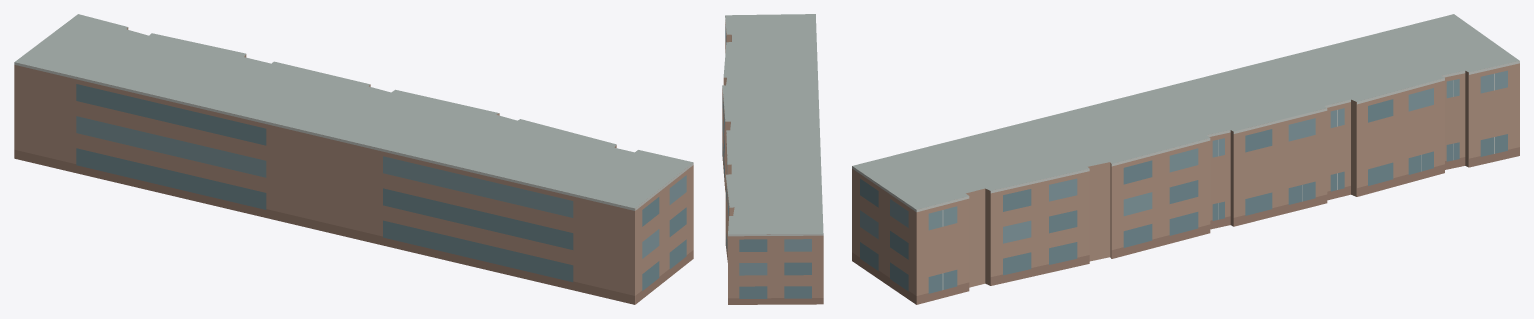
Rendered from survey-upis-32972587.glb.
3 views of the same model, side by side, from view 1: azimuth 30°, elevation 25°; view 2: azimuth 150°, elevation 25°; view 3: azimuth 270°, elevation 25° (orthographic). The views are drawn at different scales.
Parts seen in each view (by area): view 1: survey-upis-32972587.tmp; view 2: survey-upis-32972587.tmp; view 3: survey-upis-32972587.tmp.
Boxes of the visible parts, x1,y1,x2,y2 form: survey-upis-32972587.tmp: [14, 14, 693, 304]; survey-upis-32972587.tmp: [722, 14, 823, 304]; survey-upis-32972587.tmp: [852, 14, 1519, 304].
Bounding box in the file's own units: 40.39 × 9.15 × 58.22.
